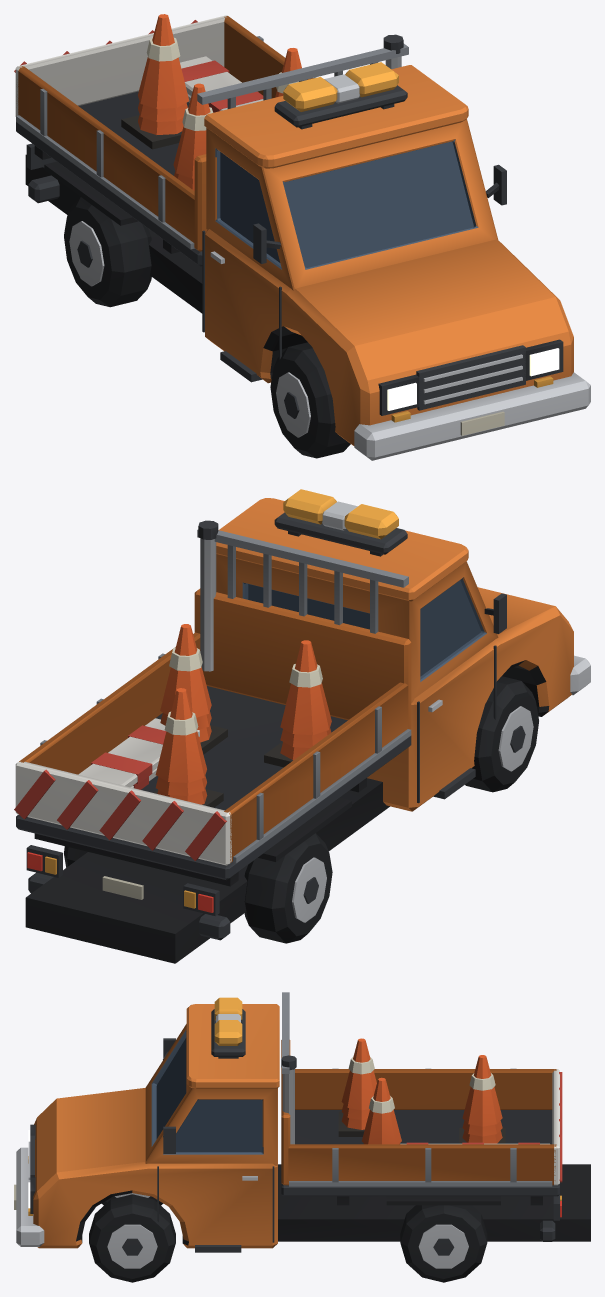
File: works-truck.glb
3 renders of one model, top to bottom at view 1: azimuth 30°, elevation 25°; view 2: azimuth 150°, elevation 25°; view 3: azimuth 270°, elevation 25°, orthographic. The views are drawn at different scales.
Parts seen in each view (by area): view 1: WorksTruck; view 2: WorksTruck; view 3: WorksTruck.
Part boxes in pixels (x1,y1,x2,y2): WorksTruck: (14, 14, 590, 460); WorksTruck: (14, 489, 590, 963); WorksTruck: (14, 992, 590, 1282).
Size of the model in its own units: 1.38 by 1.64 by 3.73.
